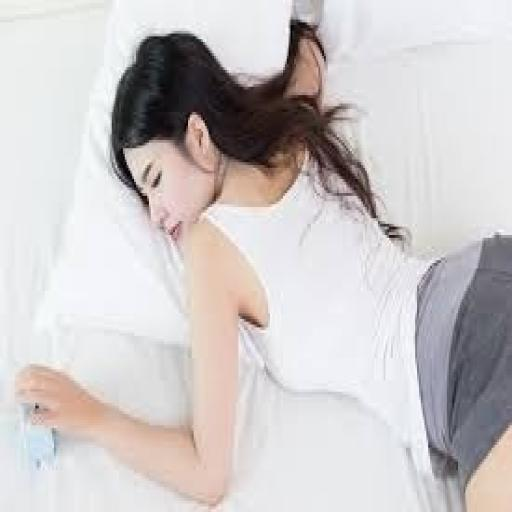sleeping: (13, 11, 510, 509)
